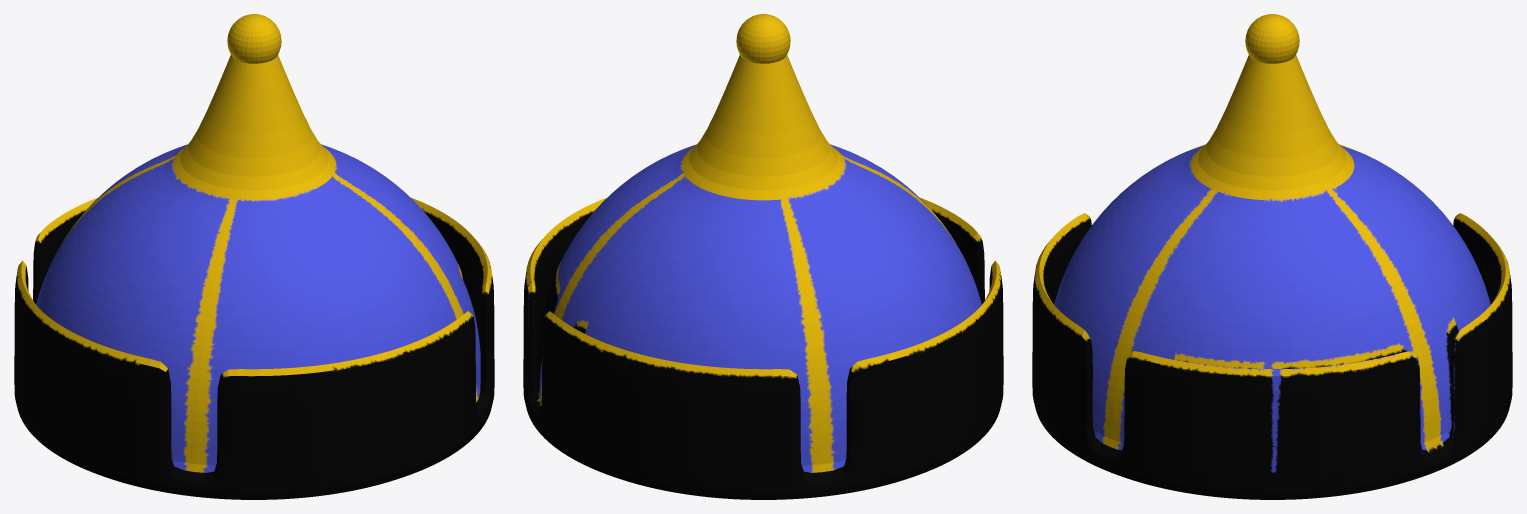
Rendered from 9lJt8Xg8Bd269oZi.glb.
3 views of the same model, side by side, from view 1: azimuth 30°, elevation 25°; view 2: azimuth 150°, elevation 25°; view 3: azimuth 270°, elevation 25° (orthographic).
Visible parts, largest first — view 1: Шапка.001; view 2: Шапка.001; view 3: Шапка.001.
Part boxes in pixels (box(x1,y1,x2,y2)): Шапка.001: box(14, 14, 494, 499); Шапка.001: box(523, 14, 1003, 499); Шапка.001: box(1032, 14, 1512, 499).
Bounding box in the file's own units: 0.9596 × 0.8501 × 0.9596.
1 material, 1 textured.
